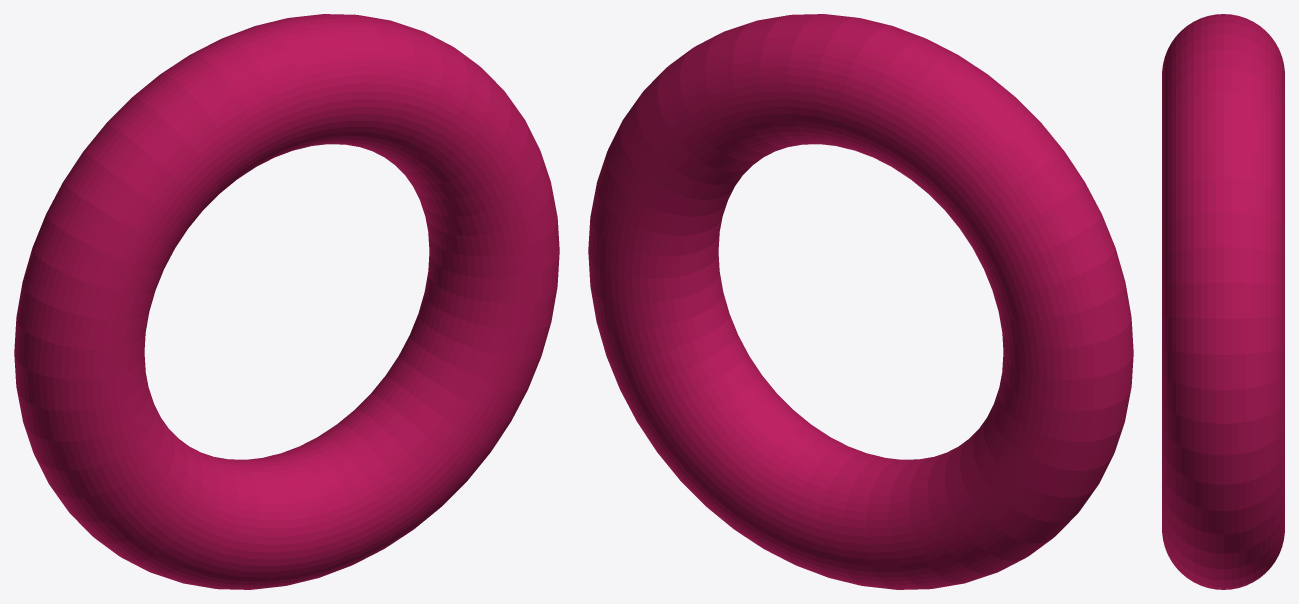
3 renders of one model, left to right at view 1: azimuth 30°, elevation 25°; view 2: azimuth 150°, elevation 25°; view 3: azimuth 270°, elevation 25°, orthographic. The views are drawn at different scales.
Parts seen in each view (by area): view 1: world; view 2: world; view 3: world.
Part boxes in pixels (x1,y1,x2,y2): world: [14, 14, 559, 589]; world: [588, 14, 1133, 589]; world: [1162, 14, 1284, 589].
Bounding box in the file's own units: 33.07 × 33 × 7.05.
